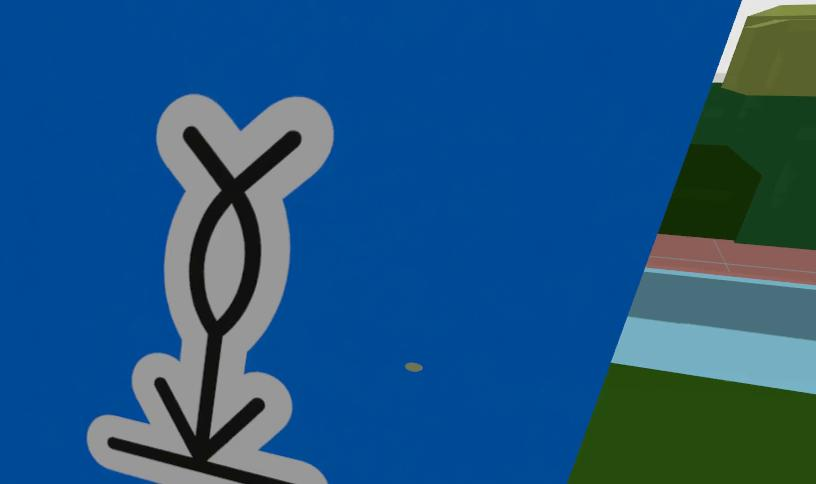KFS_REAL: (0, 0, 729, 484), (87, 94, 333, 484)
